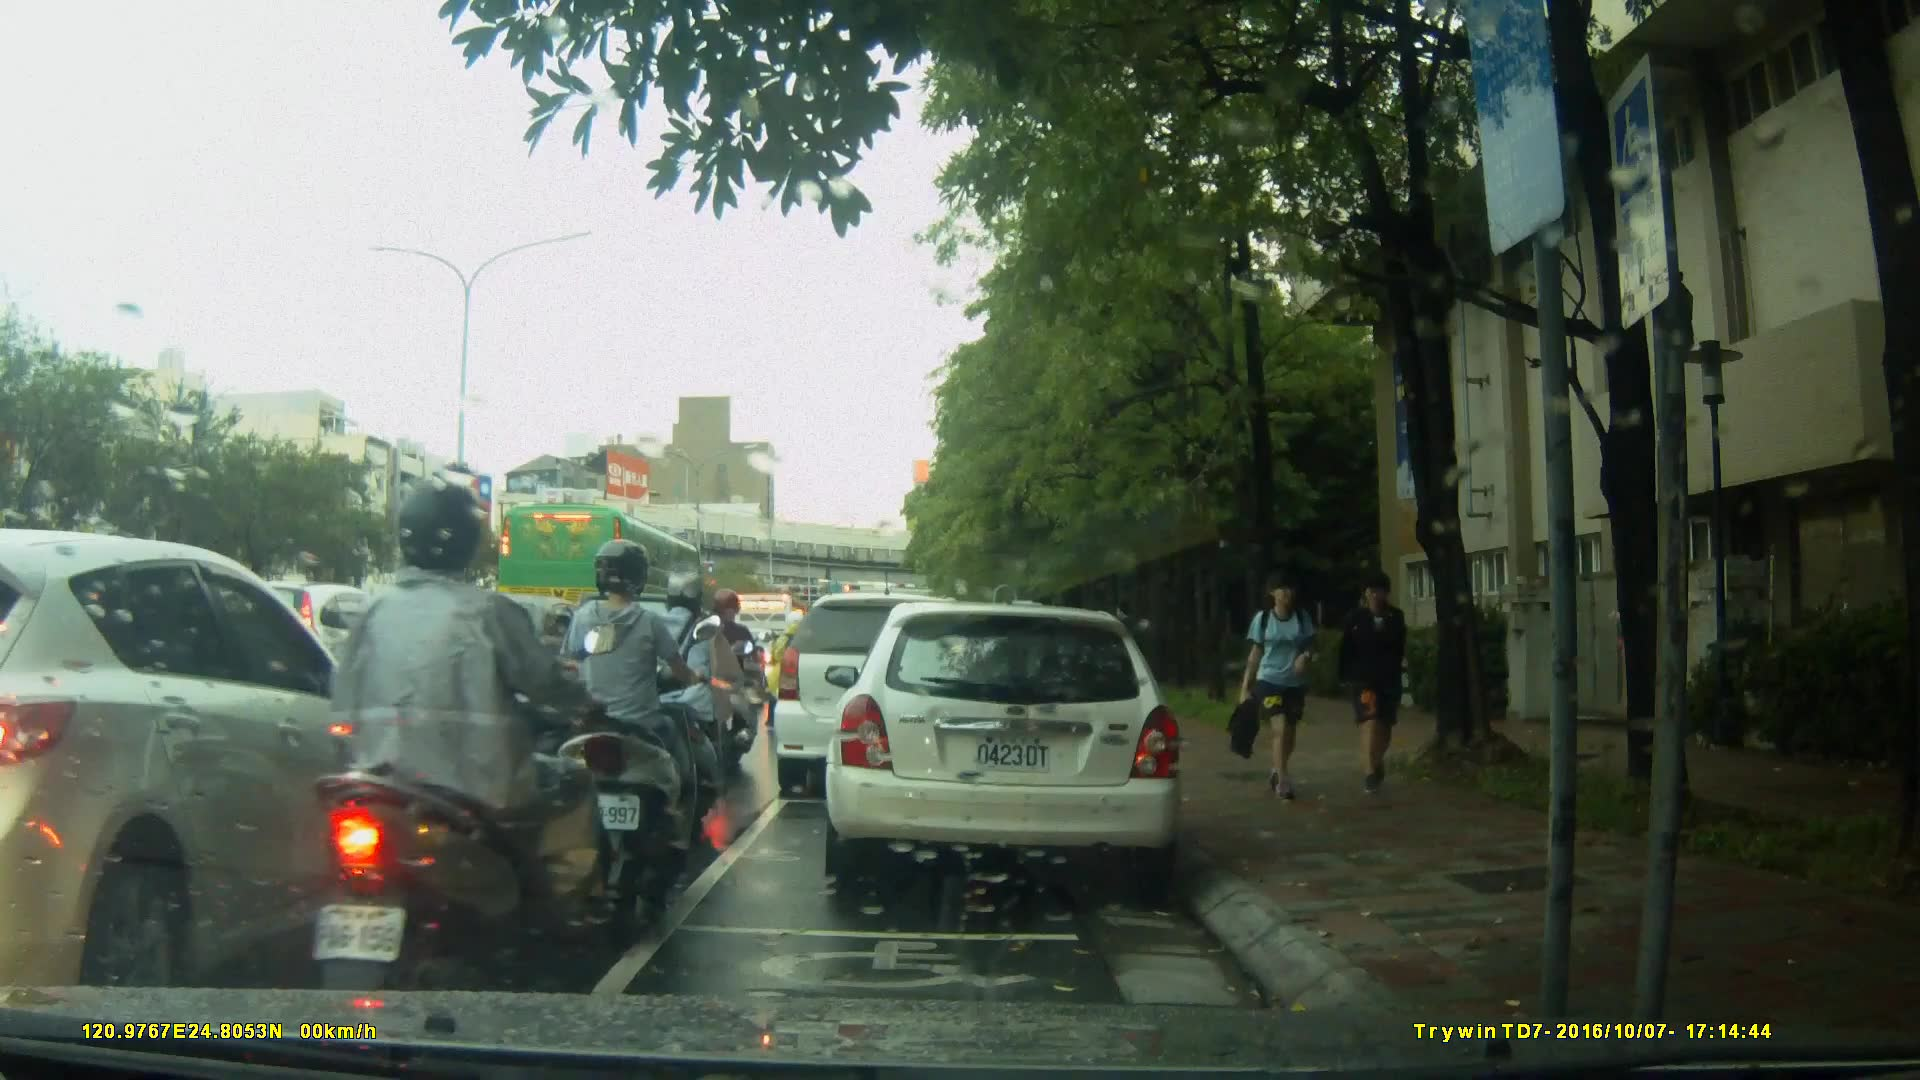pedestrian: (1218, 565, 1329, 805), (1331, 568, 1413, 796), (1115, 596, 1138, 681)
rider: (306, 470, 601, 1057), (549, 538, 705, 936), (642, 567, 731, 814), (689, 588, 760, 769)
vehicle: (1, 528, 449, 988), (831, 592, 1196, 897), (315, 590, 629, 799), (770, 591, 999, 803), (495, 500, 707, 636)
